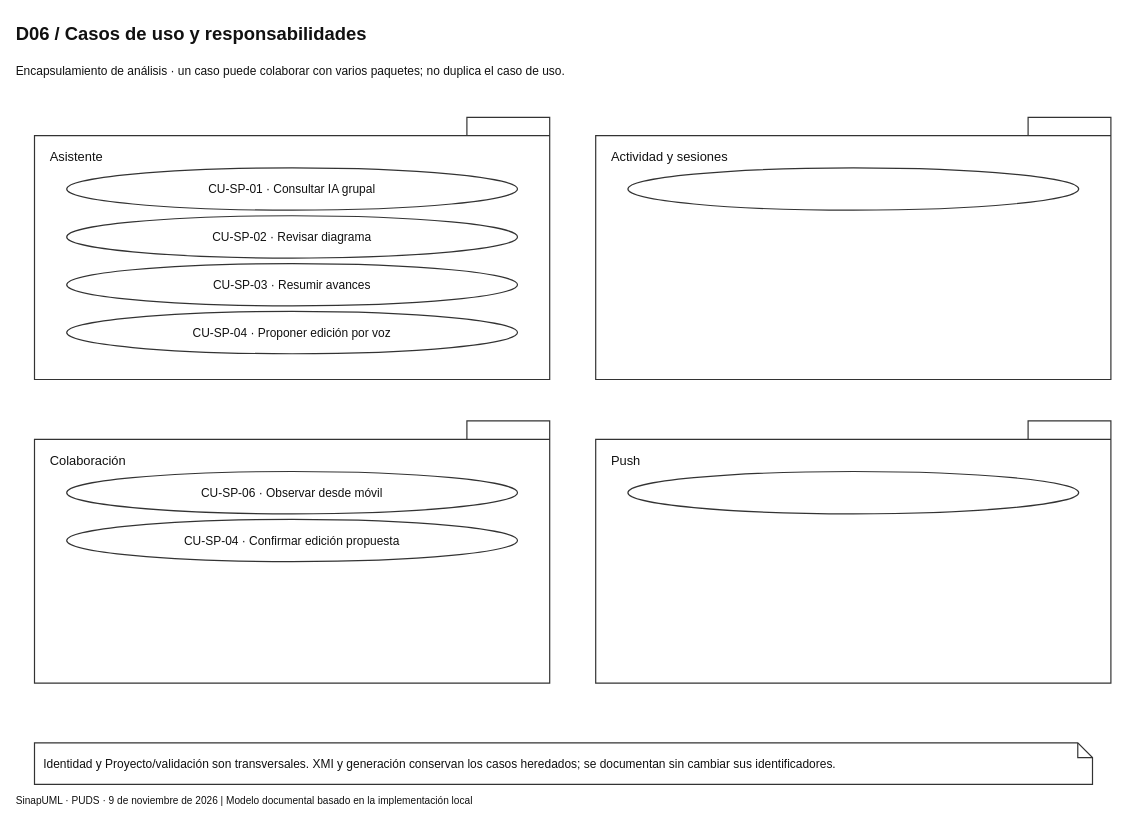
The diagram is 1127 pixels wide and 827 high, and some of its shapes have lost their labels. The shapes that lost their labels are listed below. From the top down, each one's centre as x and y in pixels, then its label:
point (853, 188): CU-SP-05 · Retomar sesión registrada
point (853, 492): CU-SP-07 · Activar y recibir avisos
